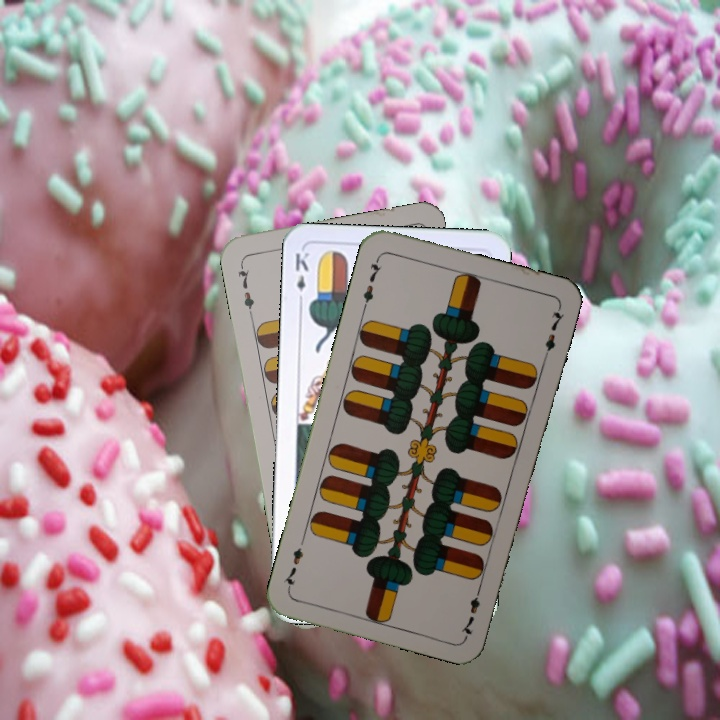E7: (457, 581, 484, 639), (359, 253, 384, 311), (233, 259, 257, 318)
EK: (291, 248, 311, 307)
